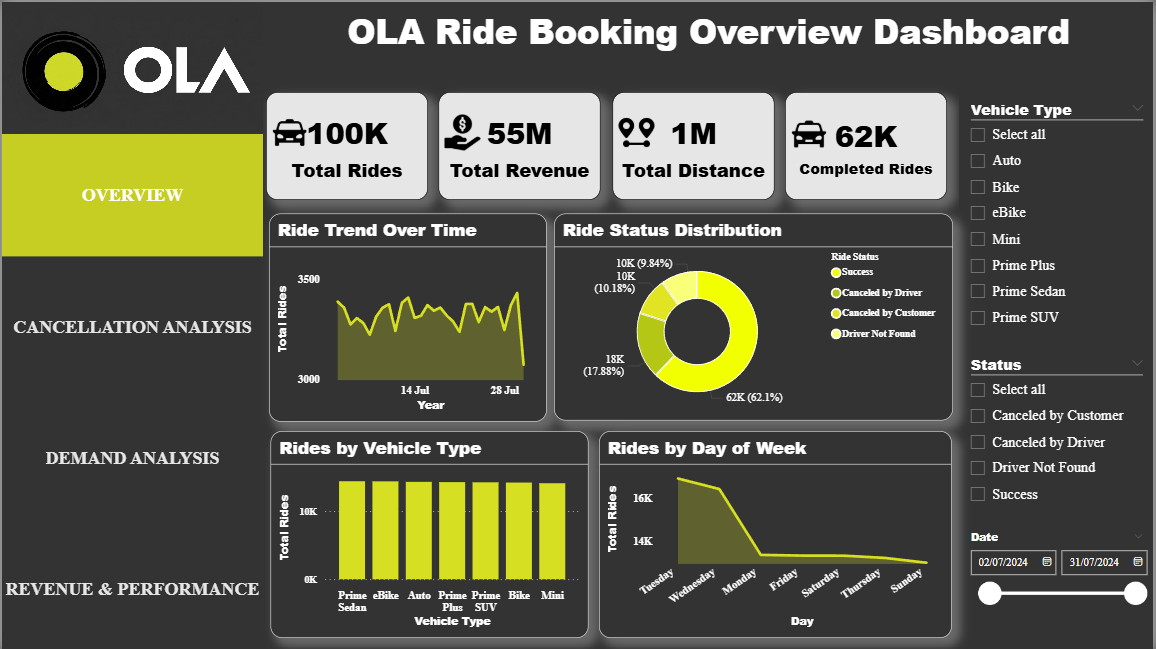

The dashboard page shown, as its layout file describes it:
{"tool":"powerbi","page":{"name":"OVERVIEW","canvas":[1280,720],"ordinal":0},"visuals":[{"type":"shape","box":[0,0,289.4,719.1],"z":0},{"type":"pageNavigator","box":[0,146,290,574],"z":1000},{"type":"card","fields":{"Values":["all measures.Total Rides"]},"box":[294,100,180,120],"z":2000},{"type":"textbox","box":[290,0,990,90],"z":3000},{"type":"card","fields":{"Values":["all measures.Total Revenue"]},"box":[485,100,180,120],"z":4000},{"type":"card","fields":{"Values":["all measures.Total Distance"]},"box":[678,100,180,120],"z":5000},{"type":"card","fields":{"Values":["all measures.Completed Rides"]},"box":[870,100,180,120],"z":6000},{"type":"lineChart","title":"Ride Trend Over Time","fields":{"Y":["all measures.Total Rides"],"Category":["Bookings.Date.Variation.Date Hierarchy.Year","Bookings.Date.Variation.Date Hierarchy.Quarter","Bookings.Date.Variation.Date Hierarchy.Month","Bookings.Date.Variation.Date Hierarchy.Day"]},"box":[296.7,234.4,308.9,231.1],"z":7000},{"type":"image","box":[0,0,290,146],"z":8000},{"type":"shape","box":[1062.5,90,217.5,630],"z":9000},{"type":"slicer","fields":{"Values":["Bookings.Date"]},"box":[1062.9,580,217.1,120],"z":10000},{"type":"slicer","fields":{"Values":["Bookings.Vehicle Type"]},"box":[1062.5,102.5,217.5,267.5],"z":11000},{"type":"slicer","fields":{"Values":["Bookings.Status"]},"box":[1062.9,387.1,217.1,180],"z":12000},{"type":"donutChart","title":"Ride Status Distribution","fields":{"Y":["all measures.Total Rides"],"Category":["Bookings.Status"]},"box":[613.3,235.6,443.3,230],"z":13000},{"type":"clusteredColumnChart","title":"Rides by Vehicle Type","fields":{"Y":["all measures.Total Rides"],"Category":["Bookings.Vehicle Type"]},"box":[298.4,476.6,353.1,229.7],"z":14000},{"type":"lineChart","title":"Rides by Day of Week","fields":{"Y":["all measures.Total Rides"],"Category":["Bookings.Day"]},"box":[664.1,476.6,392.2,229.7],"z":15000},{"type":"image","box":[294,124.6,52.7,39.9],"z":15002},{"type":"image","box":[485,125,53.3,40],"z":15003},{"type":"image","box":[678.3,125,53.3,40],"z":15004},{"type":"image","box":[870,126.7,53.3,40],"z":15005}]}

Visuals, with their boxes in screenshot pixels (x1, y1, x2, y2), scaled from the page's 1280x720 canvas onto the 1156x649 screenshot:
shape: 0,0,261,648
pageNavigator: 0,132,262,648
card - all measures.Total Rides: 266,90,428,198
textbox: 262,0,1155,81
card - all measures.Total Revenue: 438,90,601,198
card - all measures.Total Distance: 612,90,775,198
card - all measures.Completed Rides: 786,90,948,198
"Ride Trend Over Time" lineChart: 268,211,547,420
image: 0,0,262,132
shape: 960,81,1155,648
slicer - Bookings.Date: 960,523,1155,631
slicer - Bookings.Vehicle Type: 960,92,1155,334
slicer - Bookings.Status: 960,349,1155,511
"Ride Status Distribution" donutChart: 554,212,954,420
"Rides by Vehicle Type" clusteredColumnChart: 269,430,588,637
"Rides by Day of Week" lineChart: 600,430,954,637
image: 266,112,313,148
image: 438,113,486,149
image: 613,113,661,149
image: 786,114,834,150
